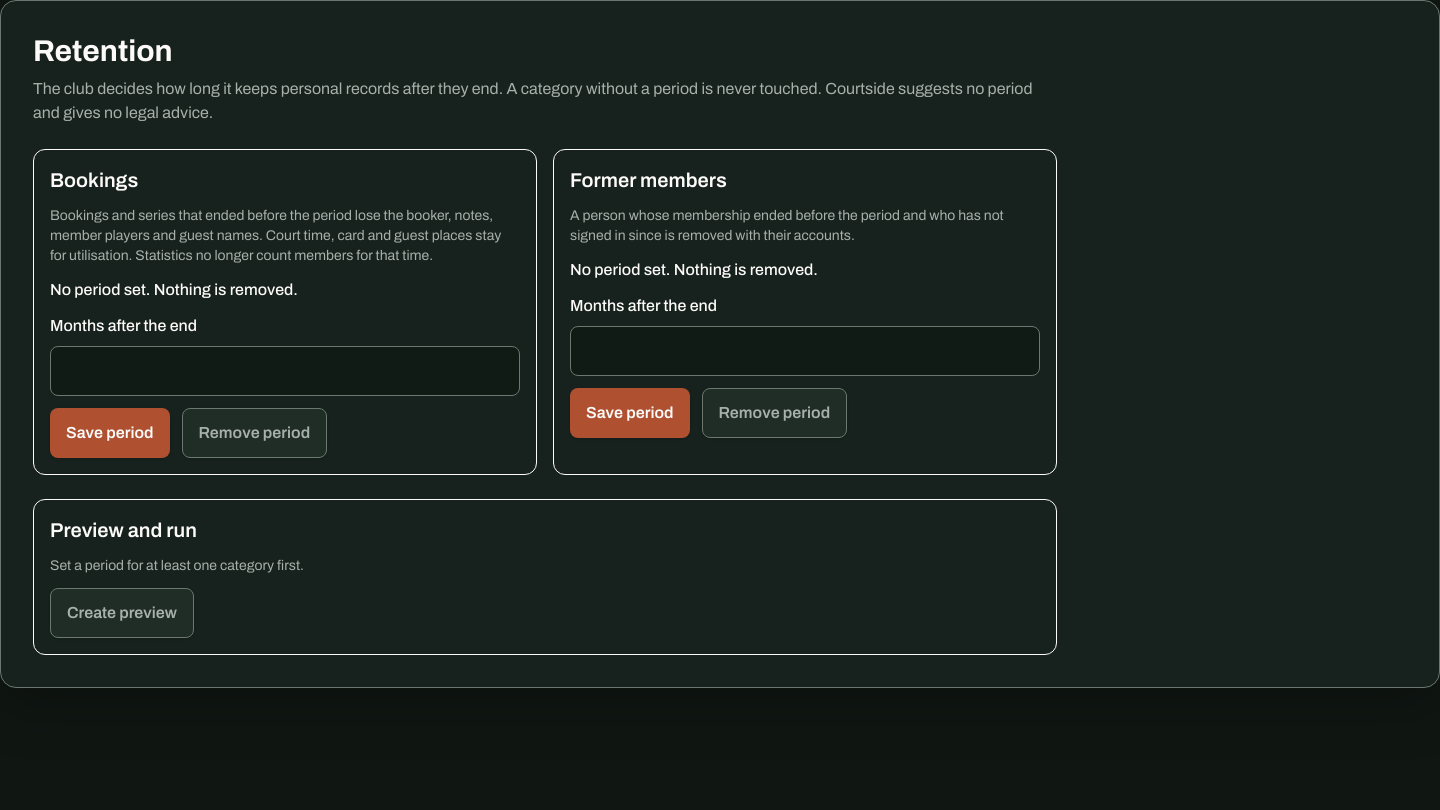
Test: AdminRetentionView › given a board that types a period, when it is saved, then the instance stores those months and the page shows them
The width and height of the screenshot is (1440, 810).
Type "24" into the number field with test id "retention-months-BOOKINGS" at (285, 371), box [50,346,520,396]
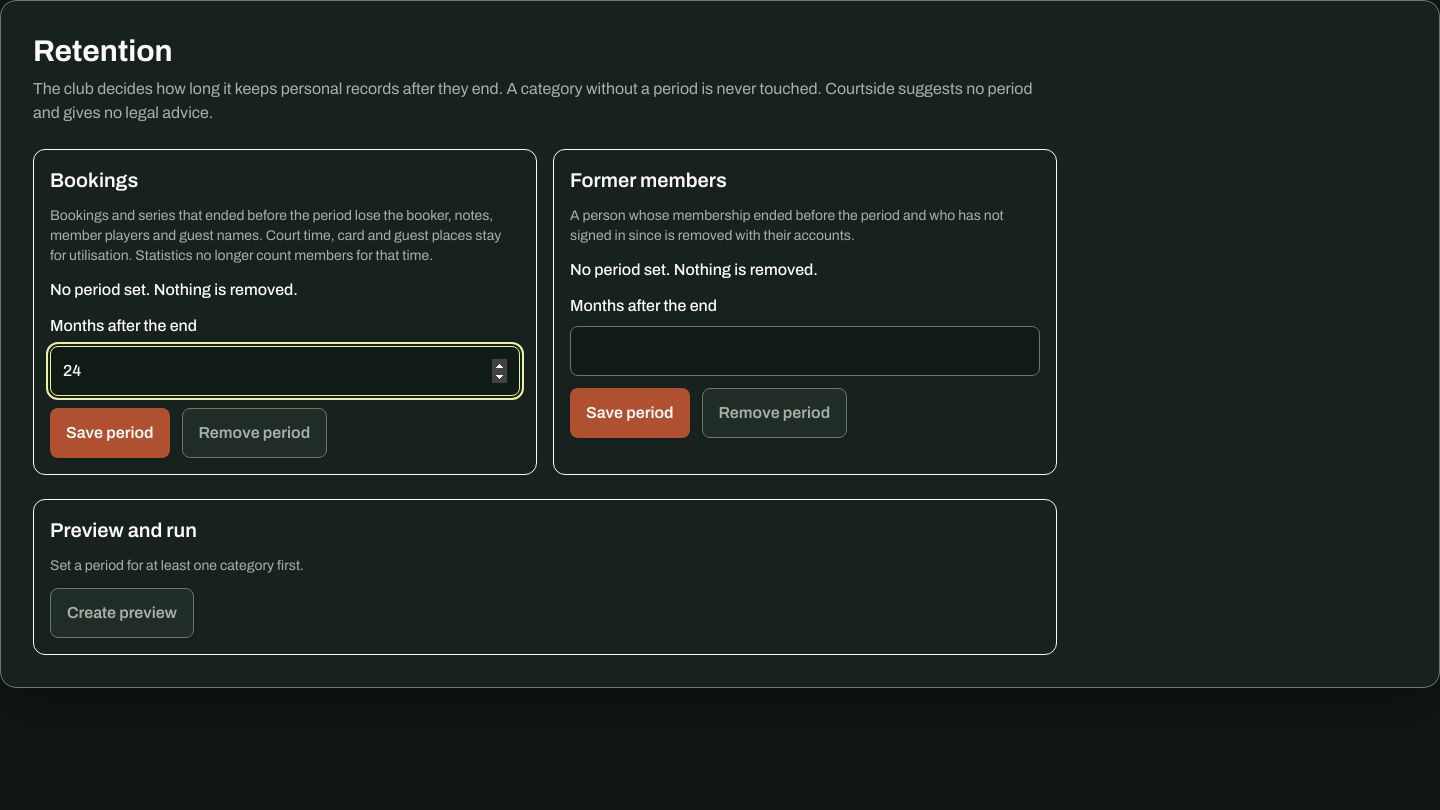
Click the button with test id "retention-save-BOOKINGS" at (110, 433), box [50,408,170,458]
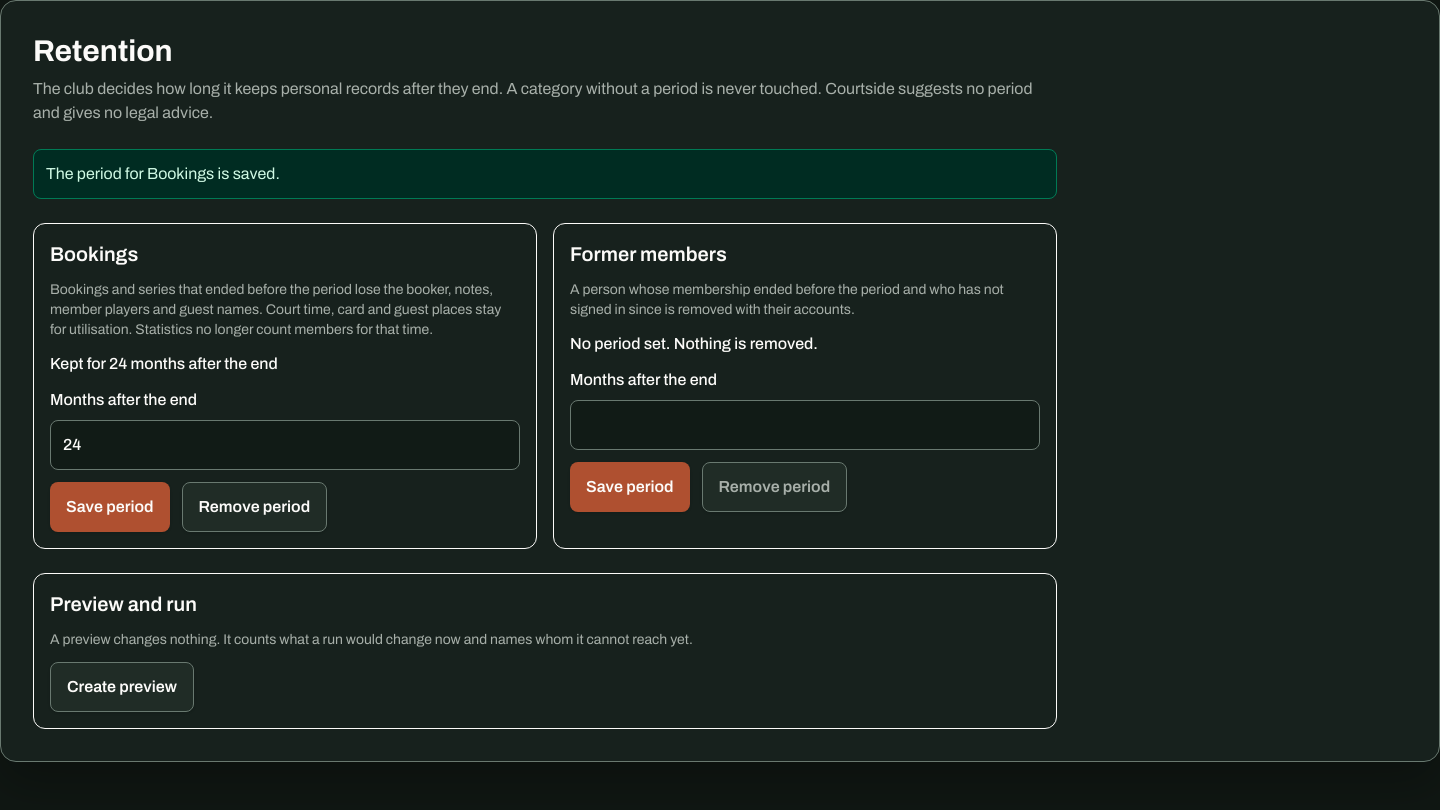
expect the message "The period for Bookings is saved." is shown: met, box [33,149,1057,199]
expect the button with test id "retention-preview" is enabled: met, box [50,662,194,712]
